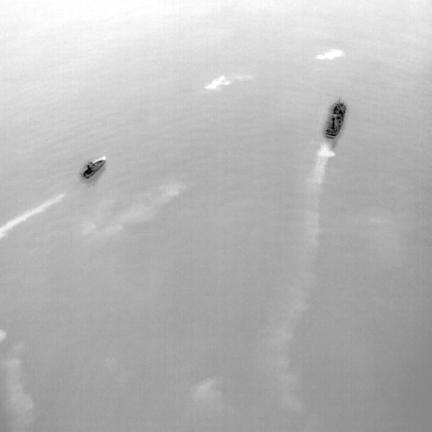flukeprints: (205, 75, 230, 89), (315, 49, 344, 59)
